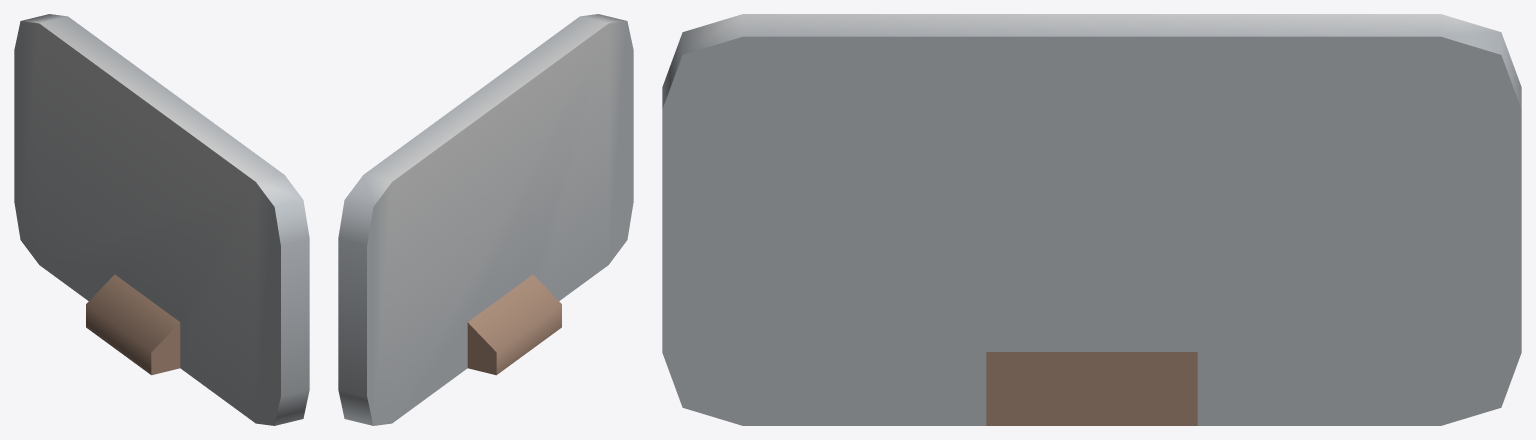
File: (%no-merge) (%open-up).glb
3 views of the same model, side by side, from view 1: azimuth 30°, elevation 25°; view 2: azimuth 150°, elevation 25°; view 3: azimuth 270°, elevation 25° (orthographic). The views are drawn at different scales.
Parts seen in each view (by area): view 1: (%no-merge) (%open-up)(Clone); view 2: (%no-merge) (%open-up)(Clone); view 3: (%no-merge) (%open-up)(Clone).
Boxes of the visible parts, x1,y1,x2,y2 form: (%no-merge) (%open-up)(Clone): (14, 14, 309, 425); (%no-merge) (%open-up)(Clone): (338, 14, 633, 425); (%no-merge) (%open-up)(Clone): (662, 14, 1521, 425).
Bounding box in the file's own units: 0.05 × 0.2 × 0.4.
